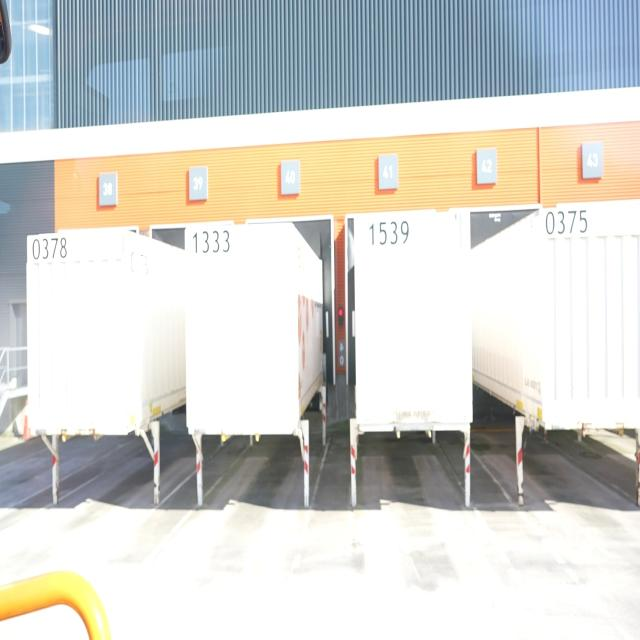Code: (540, 204, 591, 244), (366, 215, 412, 252), (189, 224, 234, 258), (30, 235, 68, 262)
